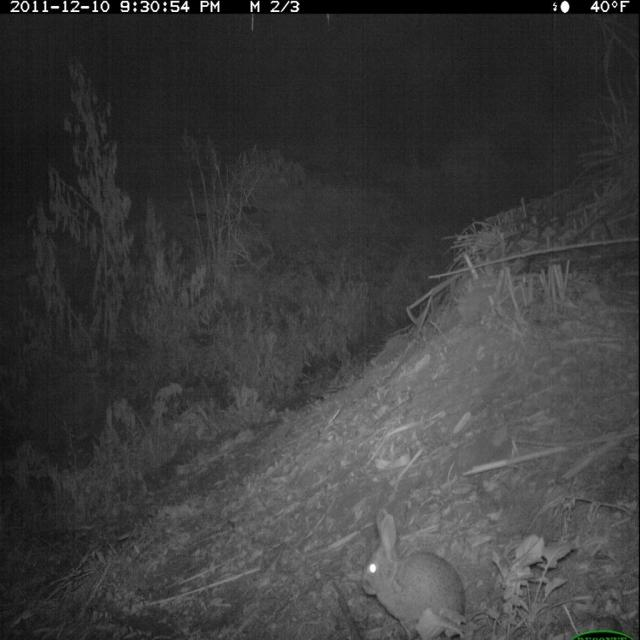rabbit: (353, 497, 477, 615)
